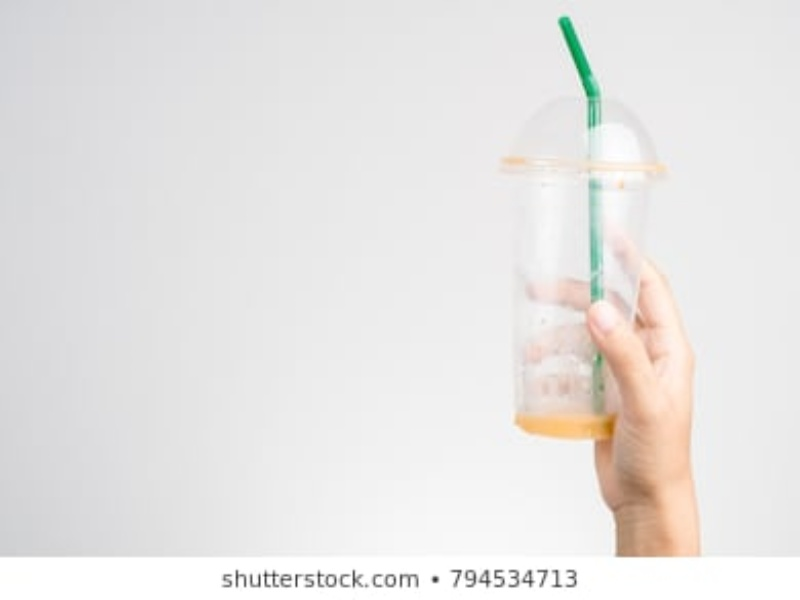plastic-cup: (496, 86, 659, 442)
straw: (555, 12, 617, 421)
